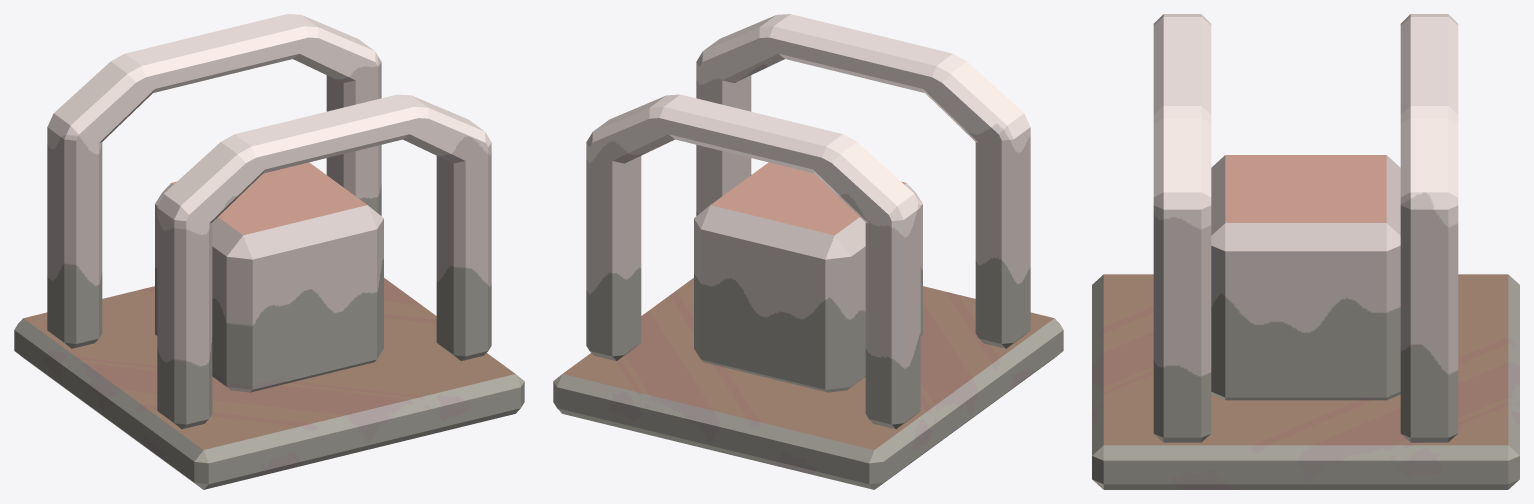
The model's file is R4X_ModuleDurabilityBooster_LOD1.glb.
3 renders of one model, left to right at view 1: azimuth 30°, elevation 25°; view 2: azimuth 150°, elevation 25°; view 3: azimuth 270°, elevation 25°, orthographic. The views are drawn at different scales.
Visible parts, largest first — view 1: R4X_ModuleDurabilityBooster_LOD1; view 2: R4X_ModuleDurabilityBooster_LOD1; view 3: R4X_ModuleDurabilityBooster_LOD1.
Part boxes in pixels (box(x1,y1,x2,y2)): R4X_ModuleDurabilityBooster_LOD1: box(14, 14, 524, 489); R4X_ModuleDurabilityBooster_LOD1: box(553, 14, 1063, 489); R4X_ModuleDurabilityBooster_LOD1: box(1092, 14, 1519, 489).
Bounding box in the file's own units: 0.52 × 0.46 × 0.52.
4 materials, 3 textured.
